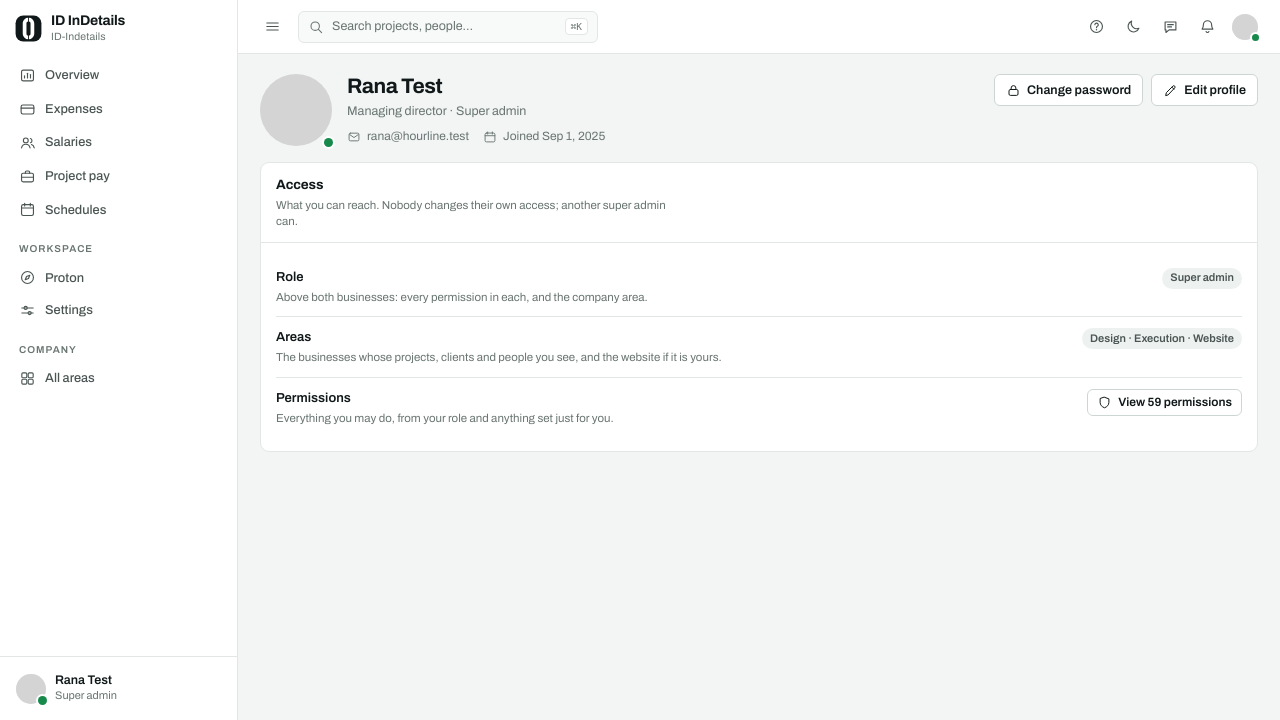
Test: my profile › lists a super admin's permissions, described
Click the button "View 59 permissions": point(1165, 402) [1087,389,1242,416]
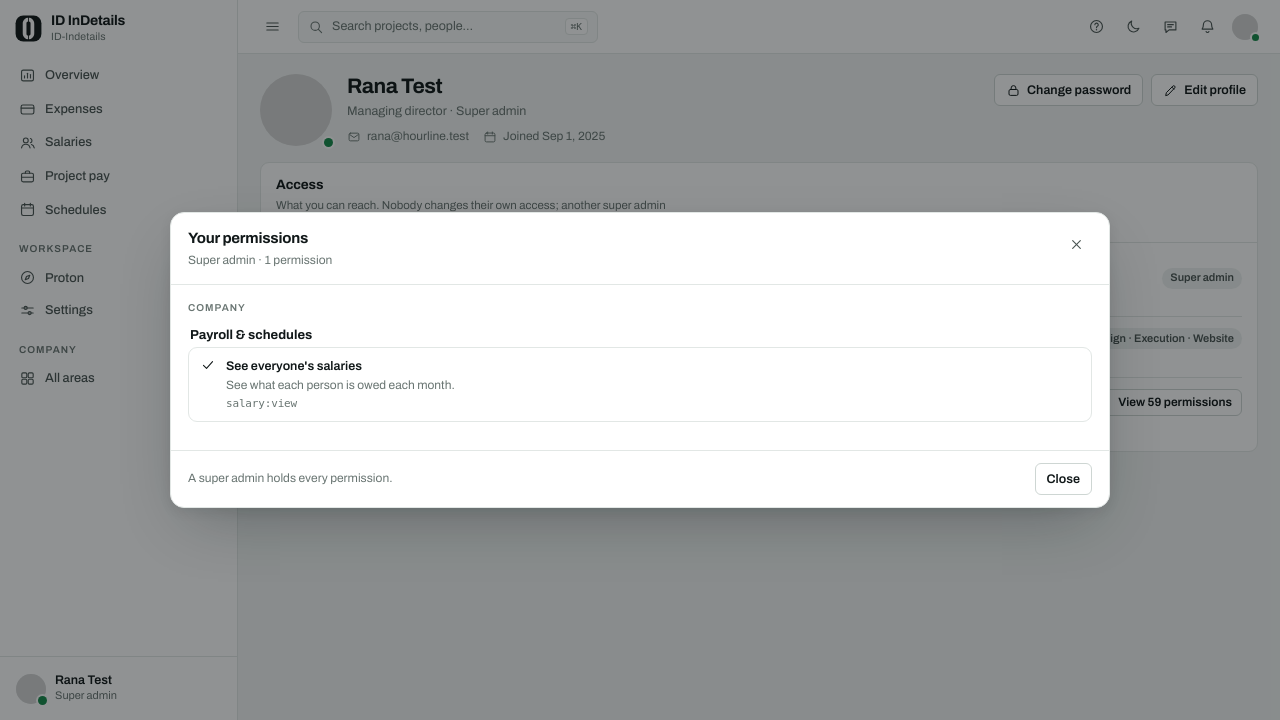
Expected: the text "See everyone's salaries" is shown, [226,358,362,372]
Expected: the text "A super admin holds every permission." is shown, [188,471,392,485]
